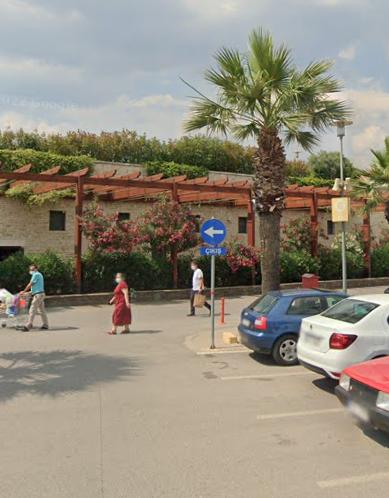turnleft: (201, 219, 227, 245)
